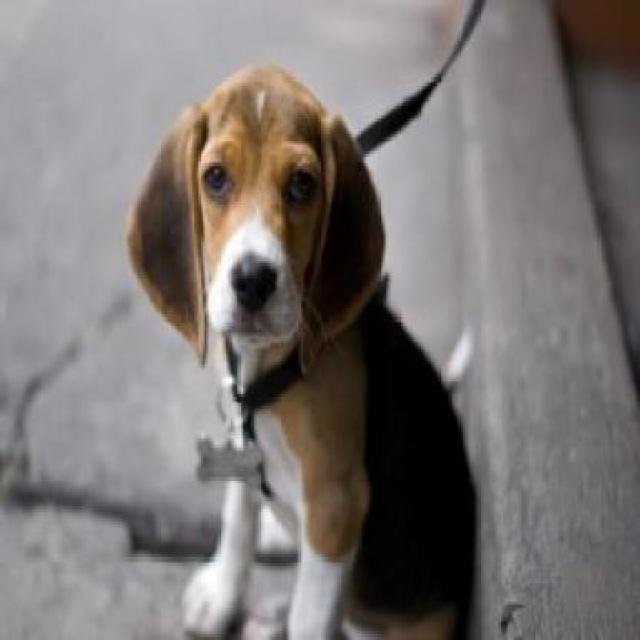Dog: (129, 65, 483, 637)
